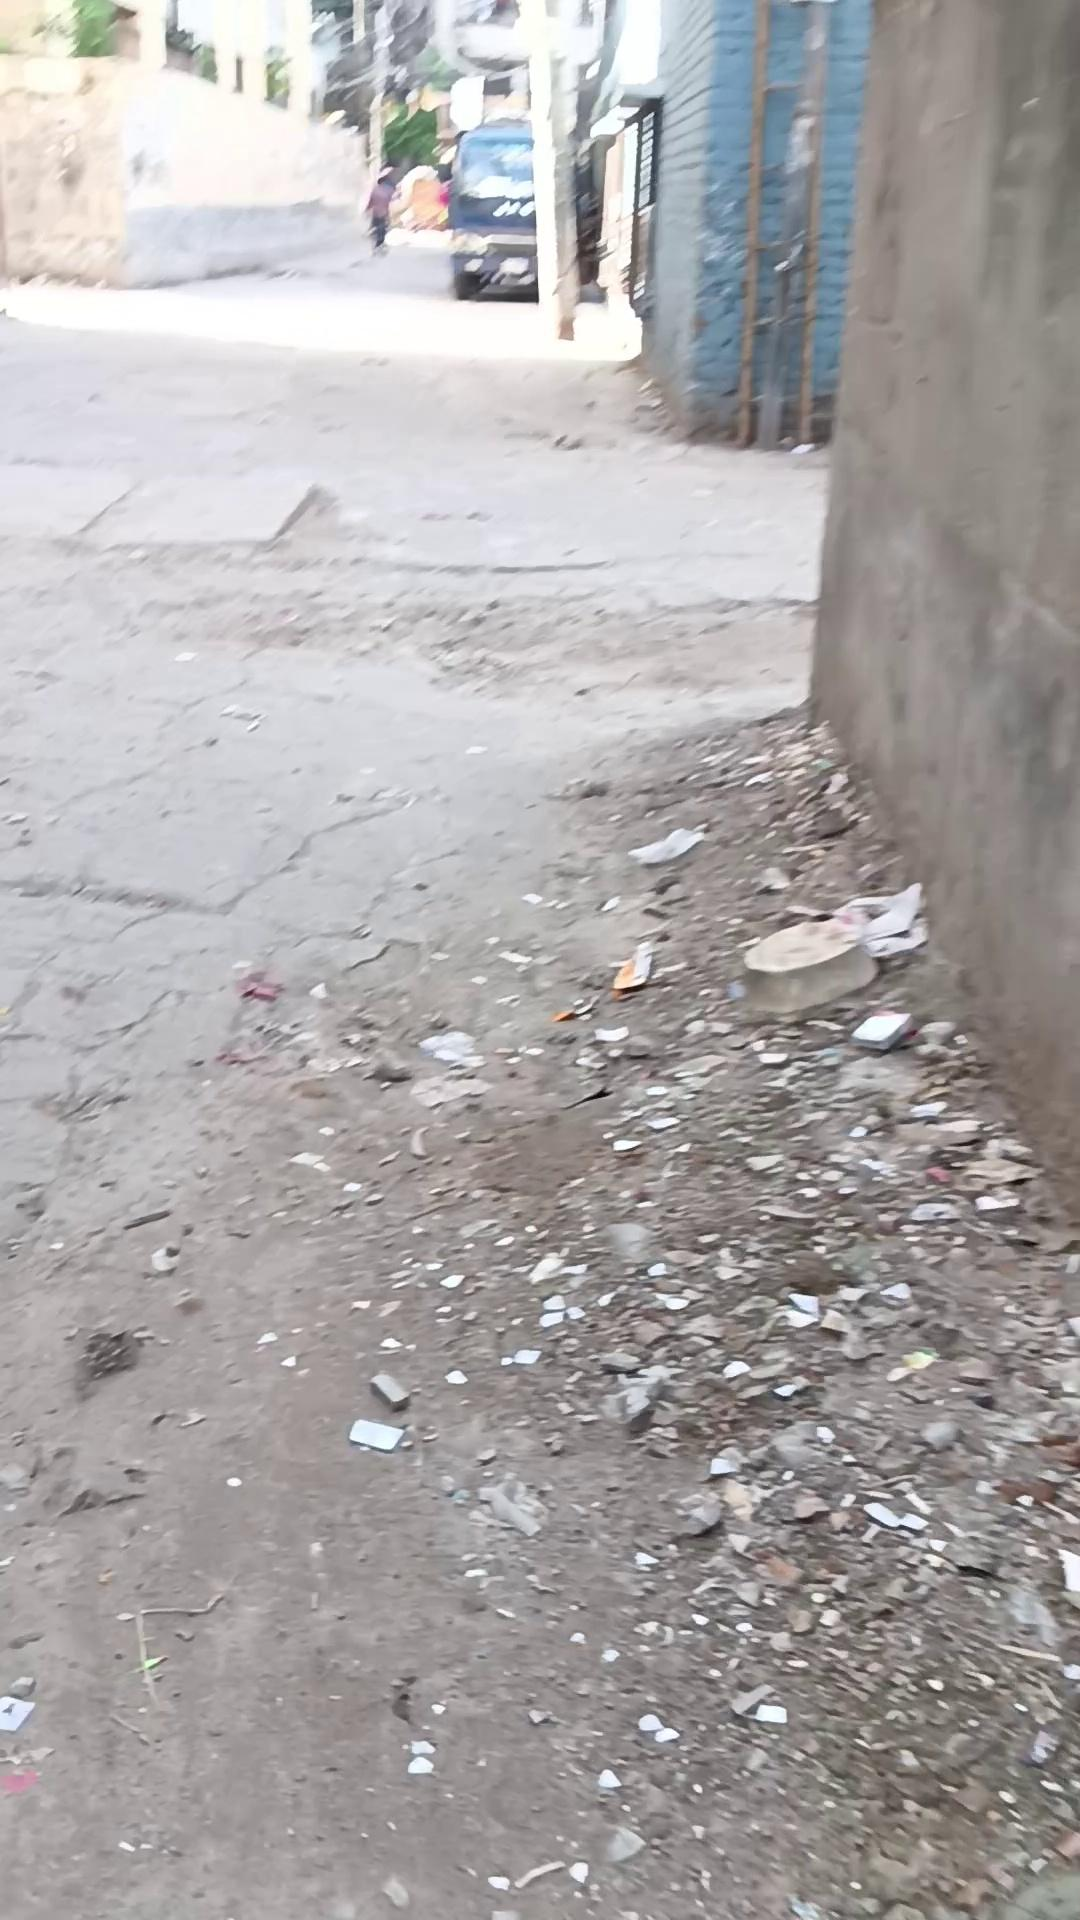Car: (446, 116, 537, 302)
Fence: (576, 702, 1080, 1887)
Muddy road: (363, 164, 398, 256)
